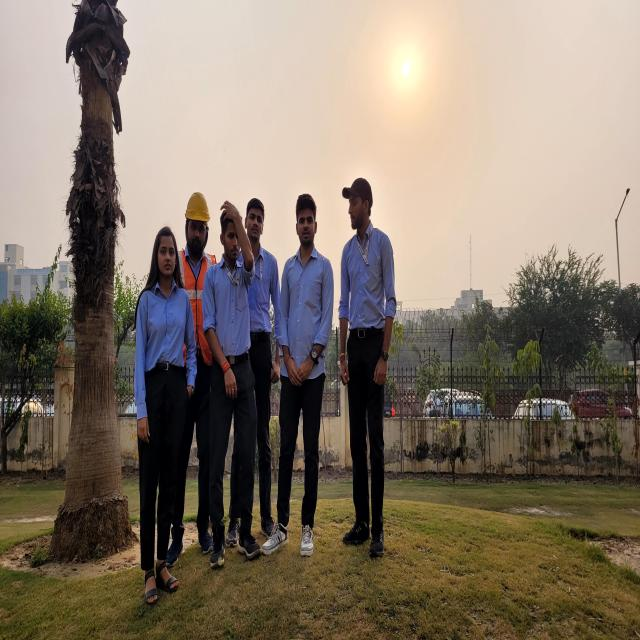safe: (178, 190, 211, 565)
unsafe: (128, 221, 198, 607), (336, 180, 401, 554), (276, 190, 336, 565), (205, 200, 260, 572), (236, 197, 282, 551)
